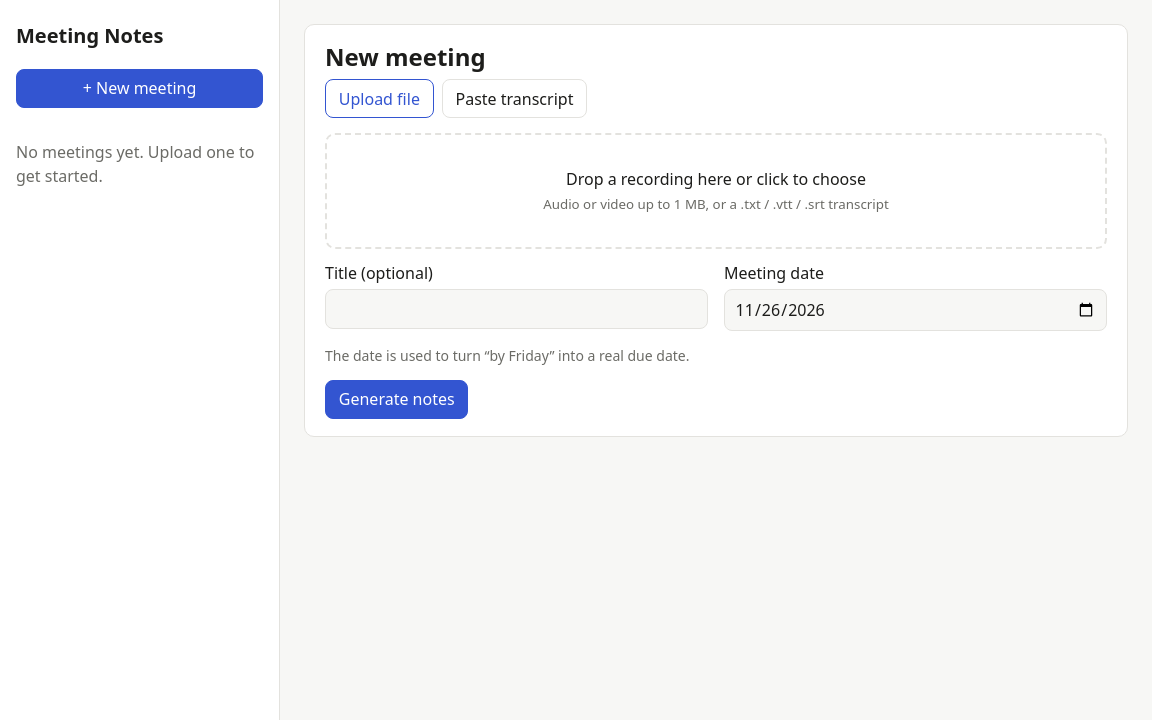
Test case: App › navigates to a new meeting after upload
This screenshot has width=1152, height=720.
Click the tab "Paste transcript" at x=514, y=99, box 442,79 -> 587,118
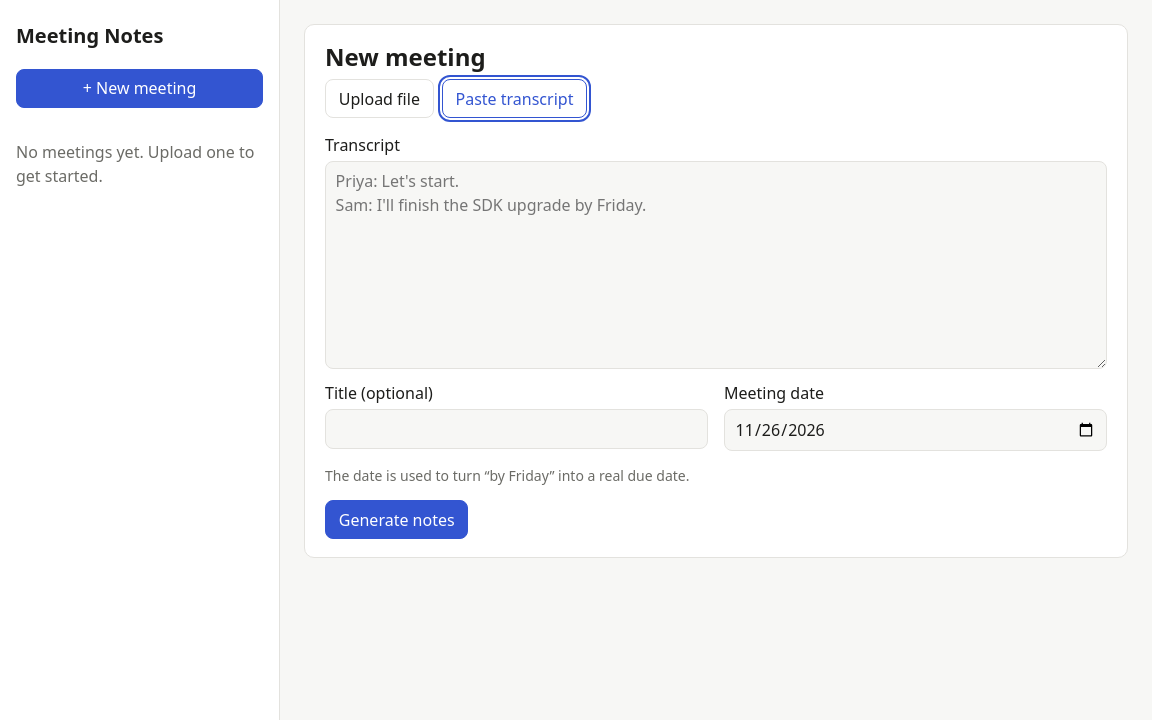
Type "Ana: hi" into the text box labelled "Transcript" at x=716, y=265, box 325,161 -> 1107,369
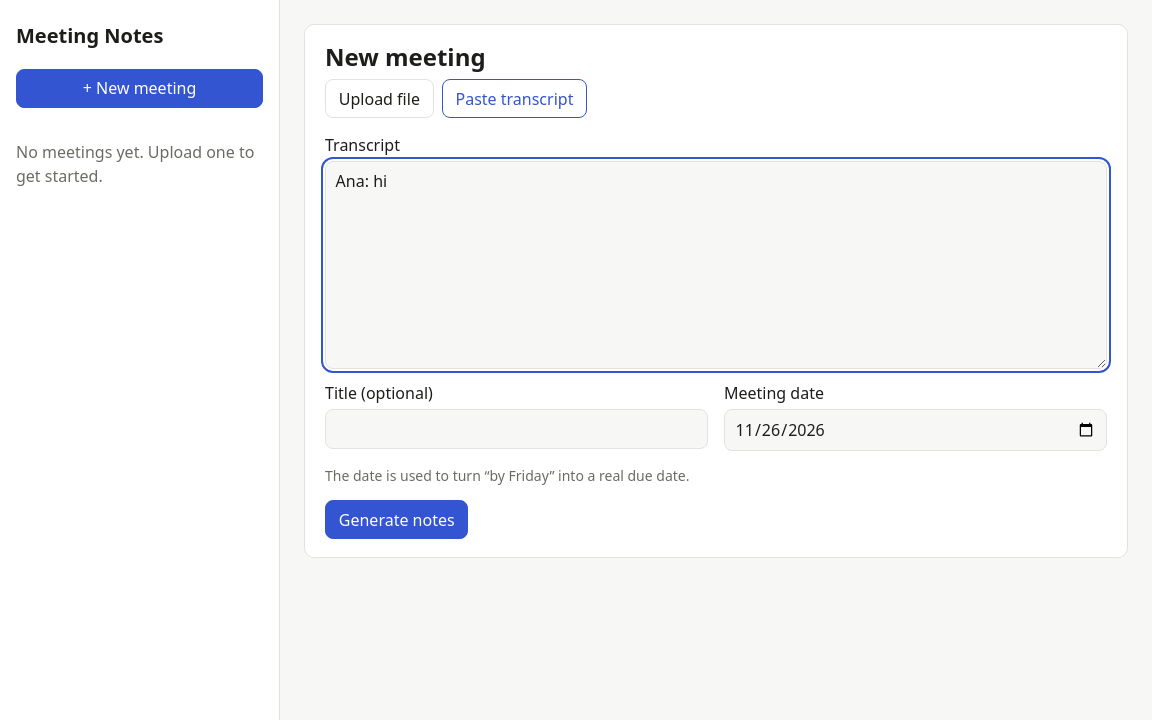
Click the button "Generate notes" at x=397, y=520, box 325,500 -> 468,539
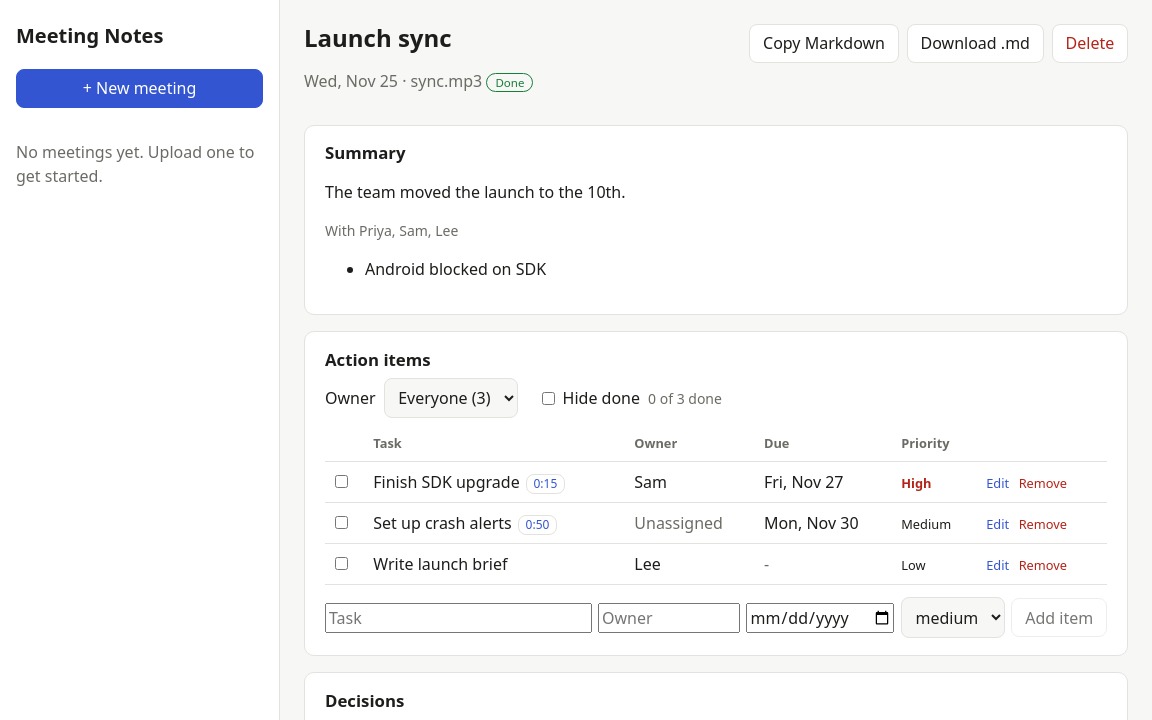
Result: the heading "Launch sync" is shown at 304,21 -> 452,54
